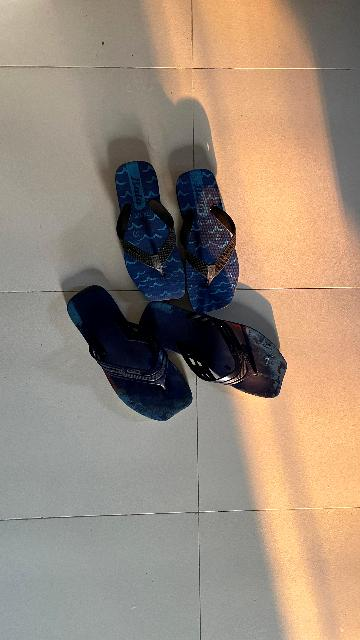sandal: (45, 265, 218, 445), (119, 272, 313, 417), (91, 146, 204, 320), (157, 153, 236, 314)
